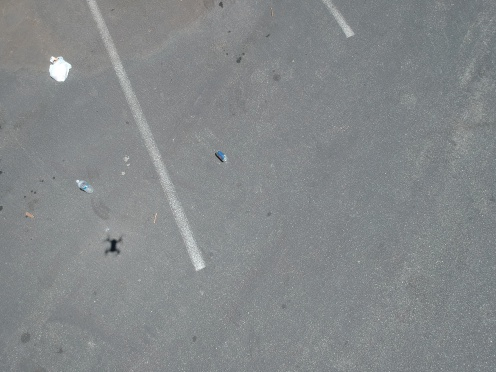bottle: (69, 176, 96, 195)
can: (212, 150, 230, 163)
plastic bag: (43, 53, 78, 84)
